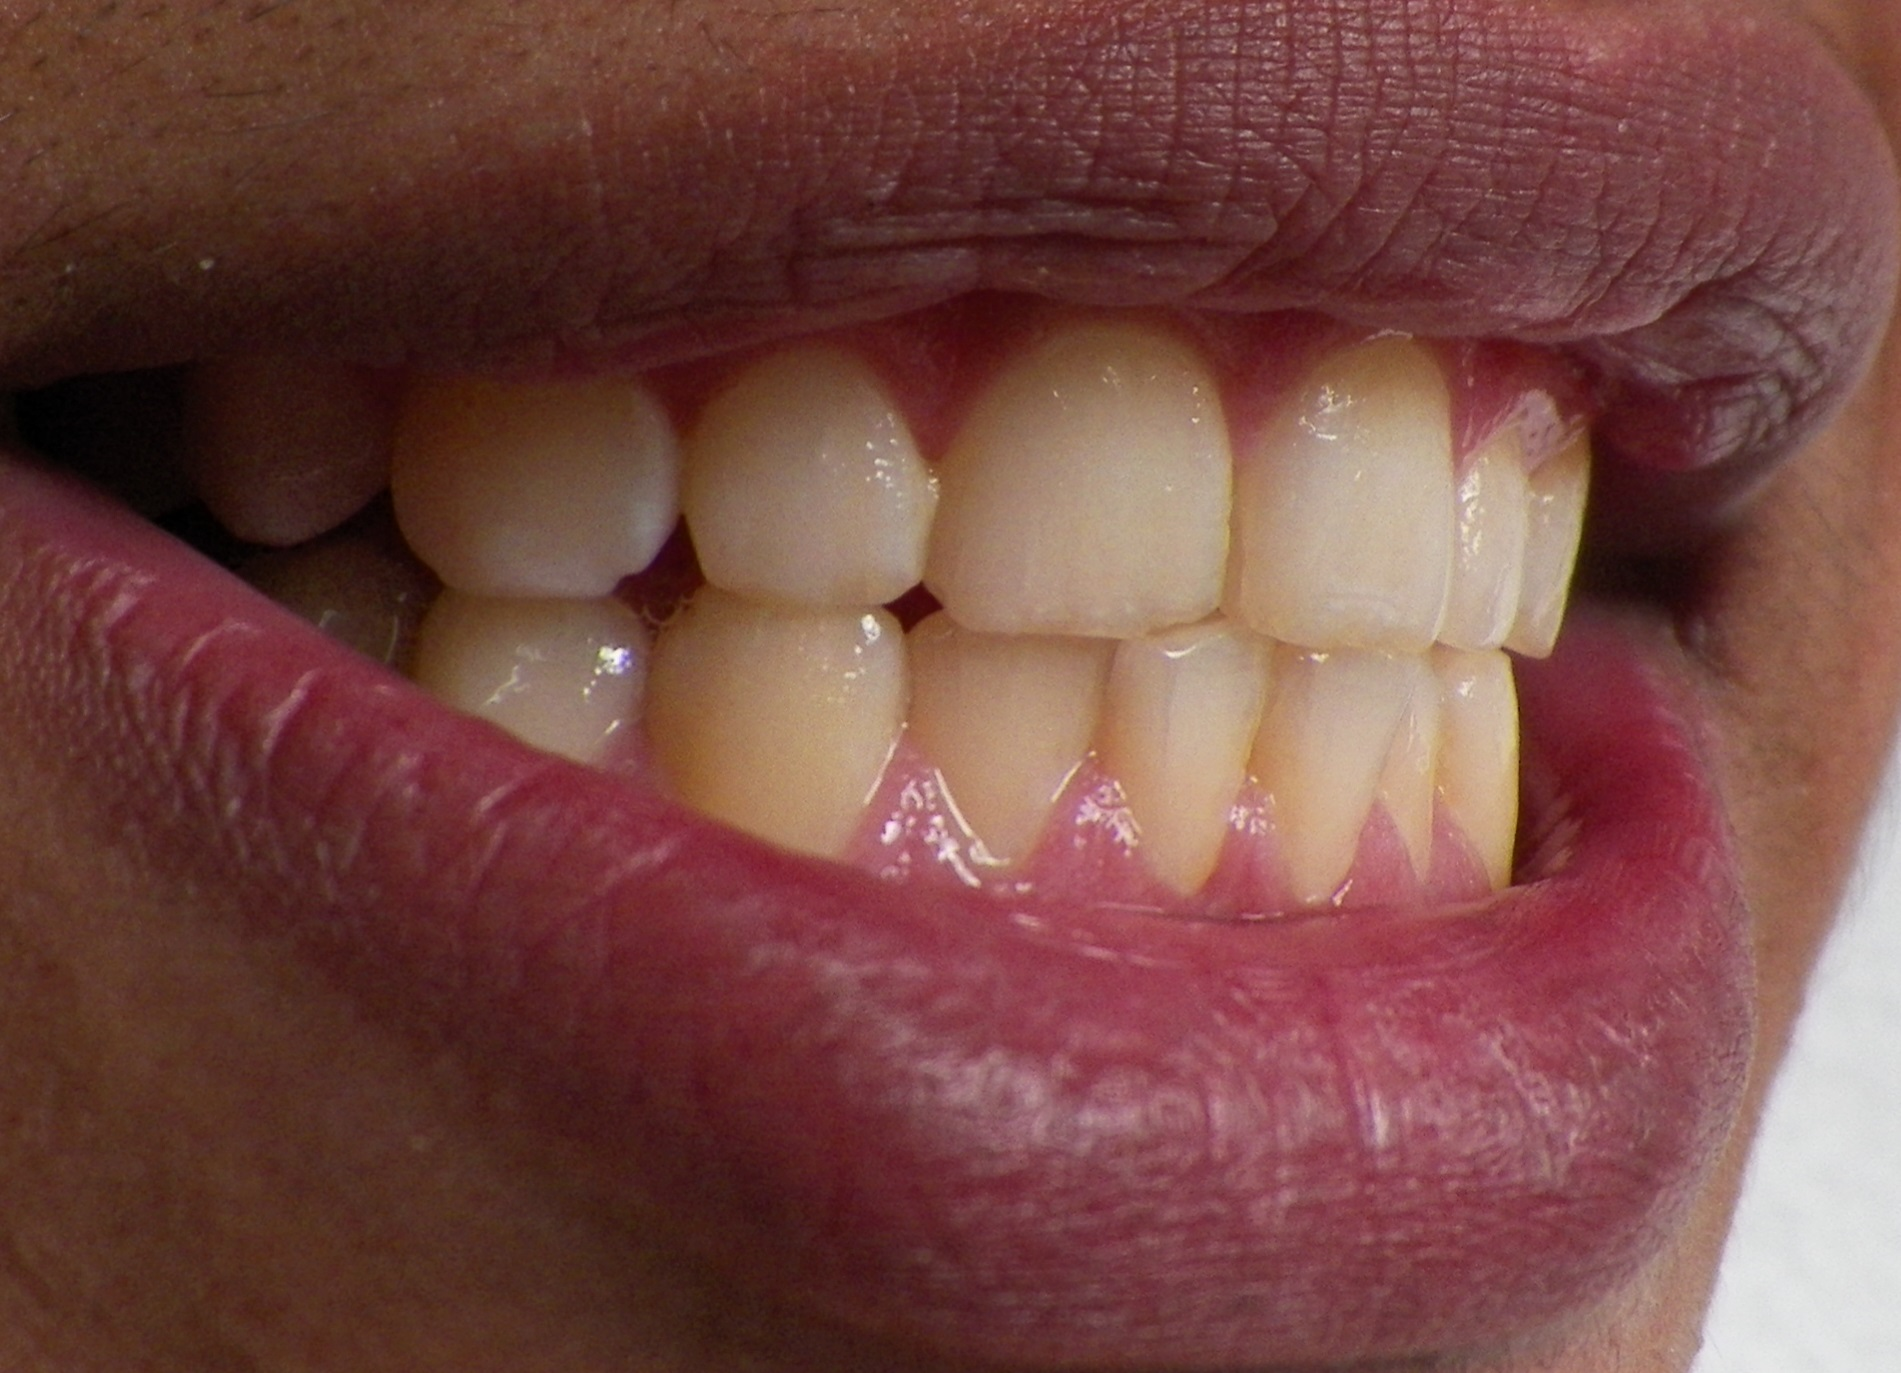boca: (106, 338, 1591, 920)
